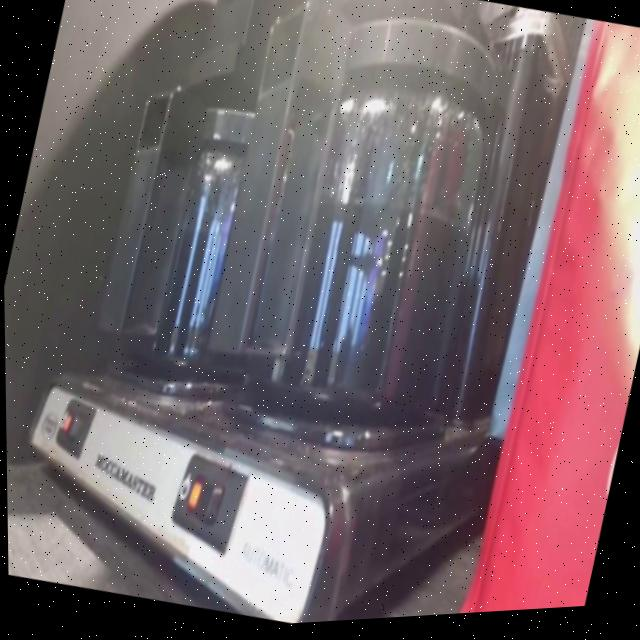coffee: (237, 105, 488, 440), (127, 148, 286, 399)
